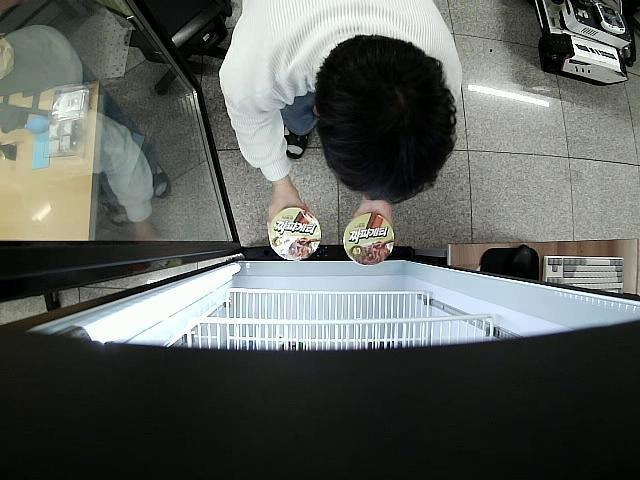03_chapagetti_L: (268, 207, 322, 260), (344, 216, 394, 265)
